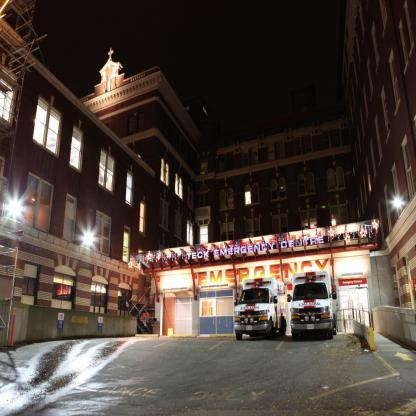Ambulance - v1 Ambulance last generate: (286, 270, 338, 340), (234, 277, 287, 339)
